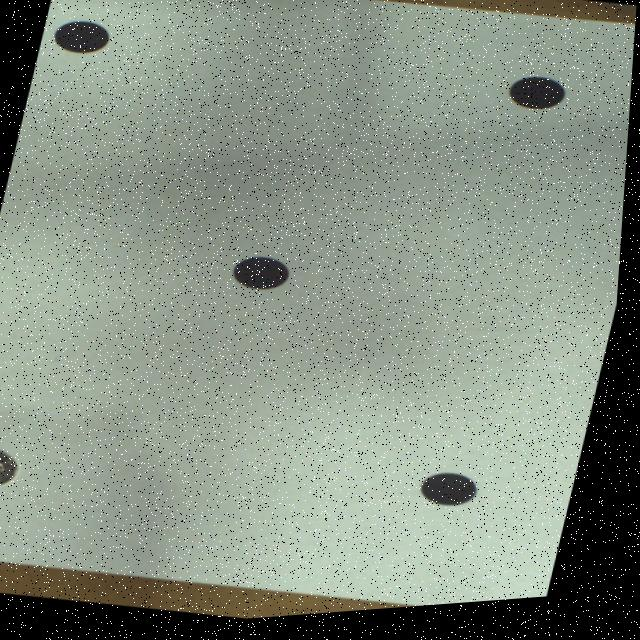space: (427, 479, 484, 512), (236, 260, 293, 293), (510, 84, 566, 117), (54, 21, 110, 53)
tail1bath: (0, 447, 24, 486)
